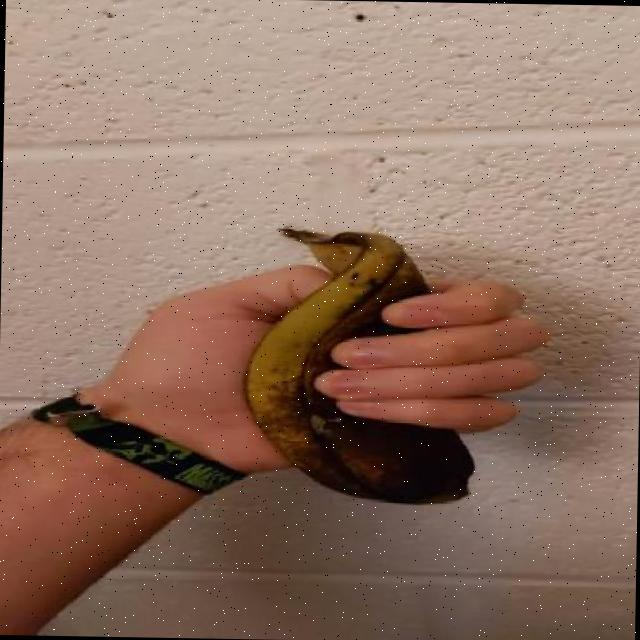banana-peel: (240, 222, 480, 504)
